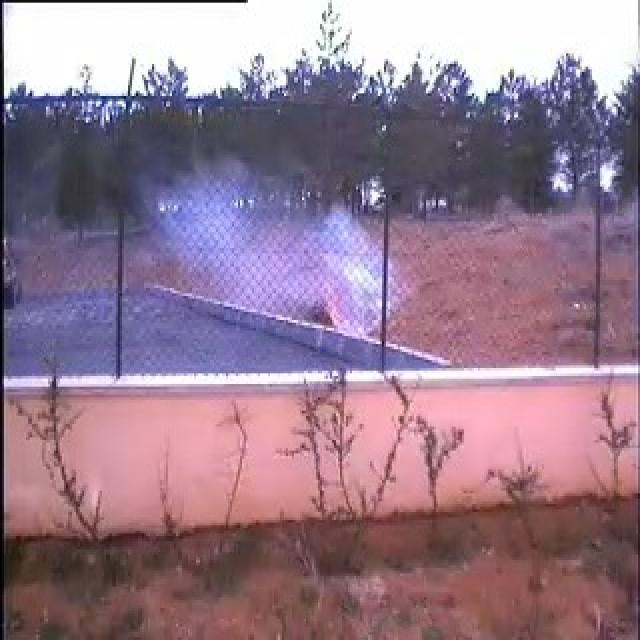smoke: (99, 164, 392, 368)
